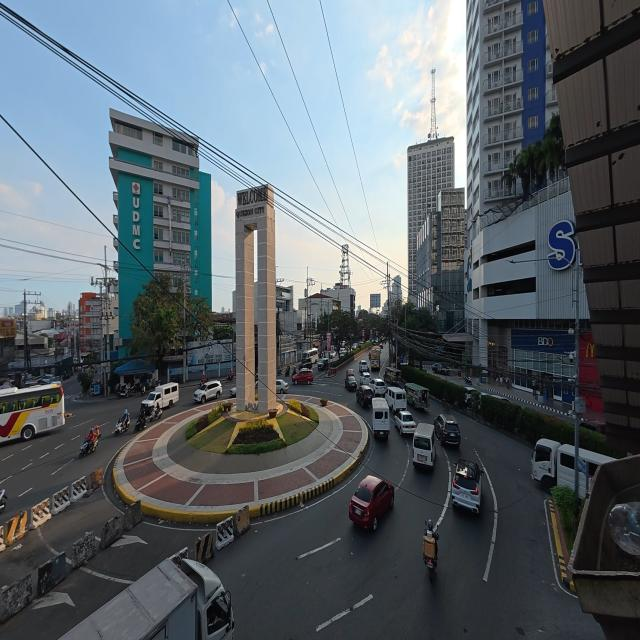car: (346, 473, 395, 531), (433, 414, 461, 447), (396, 411, 419, 436), (291, 368, 314, 385)
